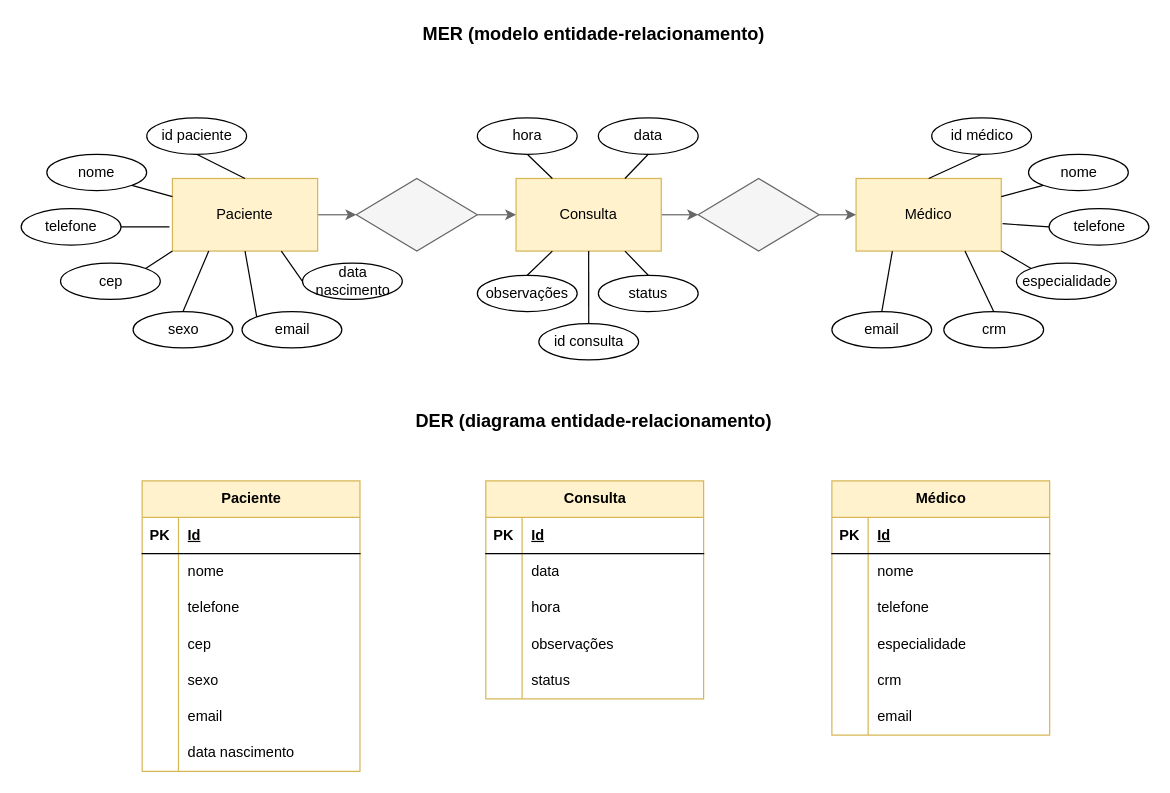
The diagram is 1170 pixels wide and 793 high, and some of its shapes have lost their labels. The centre of each missing label's shape, as x and y in pixels:
"Realiza" goes at point (416, 214).
"Realizada por" goes at point (758, 214).
